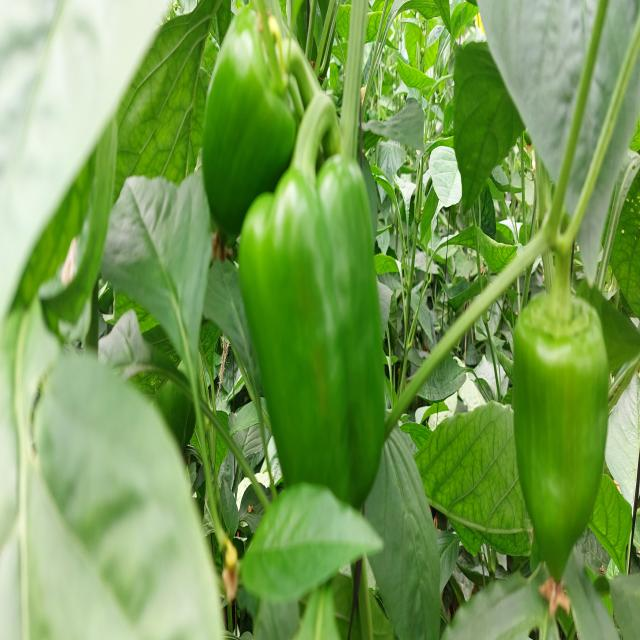Green--Not-ready-to-harvest: (238, 150, 403, 526), (519, 286, 610, 597), (193, 0, 298, 220)
